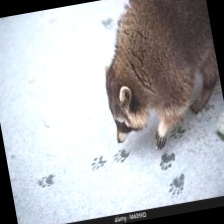raccoon: (165, 171, 190, 198), (111, 144, 136, 168), (84, 152, 110, 172)
